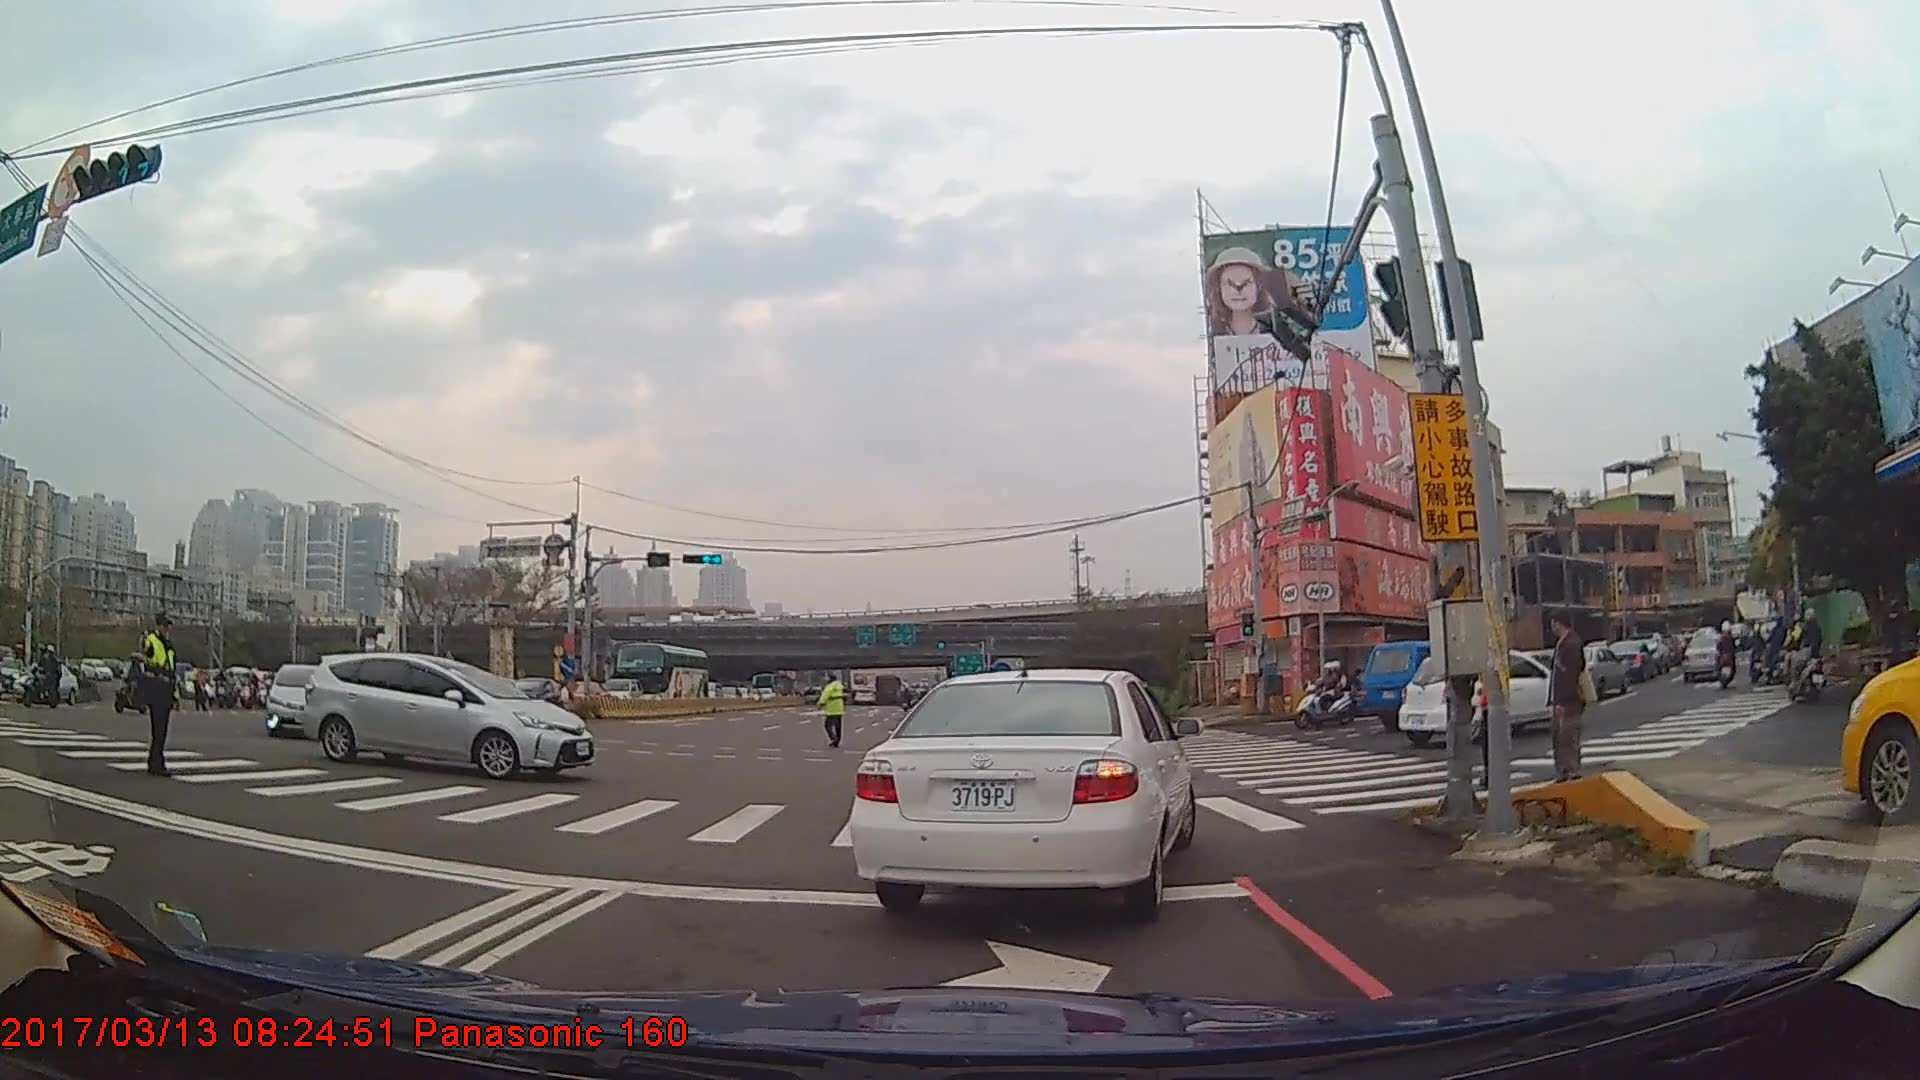pedestrian: (1539, 610, 1595, 783), (127, 610, 182, 779), (816, 670, 847, 752)
rider: (1295, 661, 1356, 733), (1783, 608, 1829, 699), (21, 645, 61, 710), (115, 651, 152, 715), (1712, 622, 1742, 691), (1768, 617, 1795, 689), (1747, 622, 1769, 683)
vehicle: (850, 667, 1198, 913), (304, 650, 600, 780), (1395, 647, 1573, 748), (611, 640, 709, 709), (267, 661, 346, 738), (12, 657, 71, 704), (1678, 630, 1730, 682), (1603, 640, 1655, 681)
